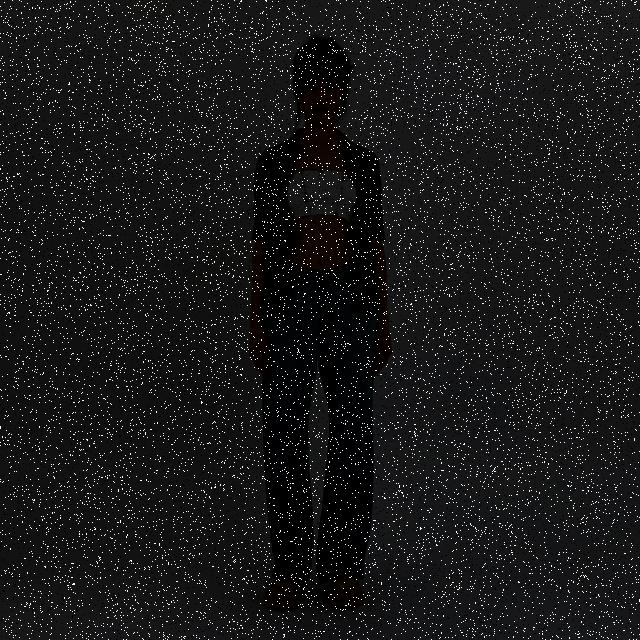Blouse_deep: (266, 250, 377, 582), (250, 122, 395, 312)
